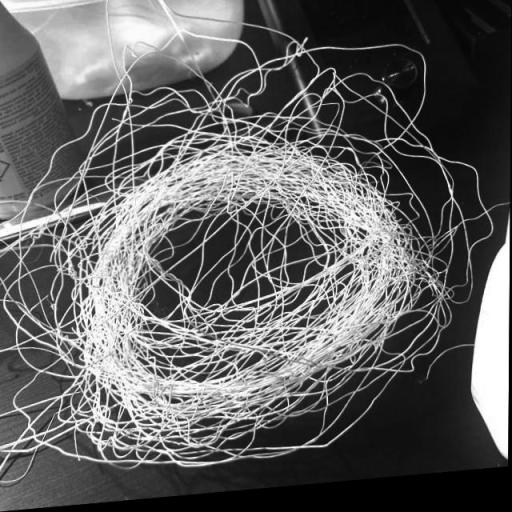spaghetti_and_stringing: (264, 178, 485, 380), (187, 76, 430, 198), (121, 382, 347, 478), (78, 92, 196, 270), (21, 260, 136, 414), (142, 294, 254, 420), (20, 176, 79, 264)
